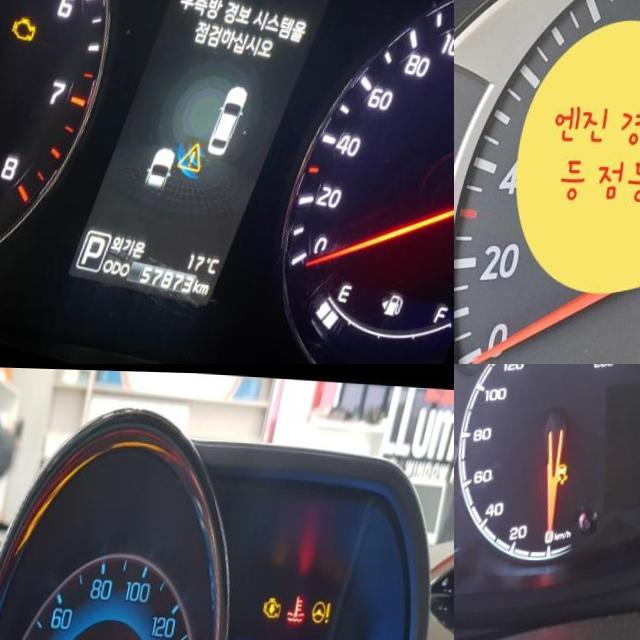Engine cooling system: (290, 589, 314, 620)
